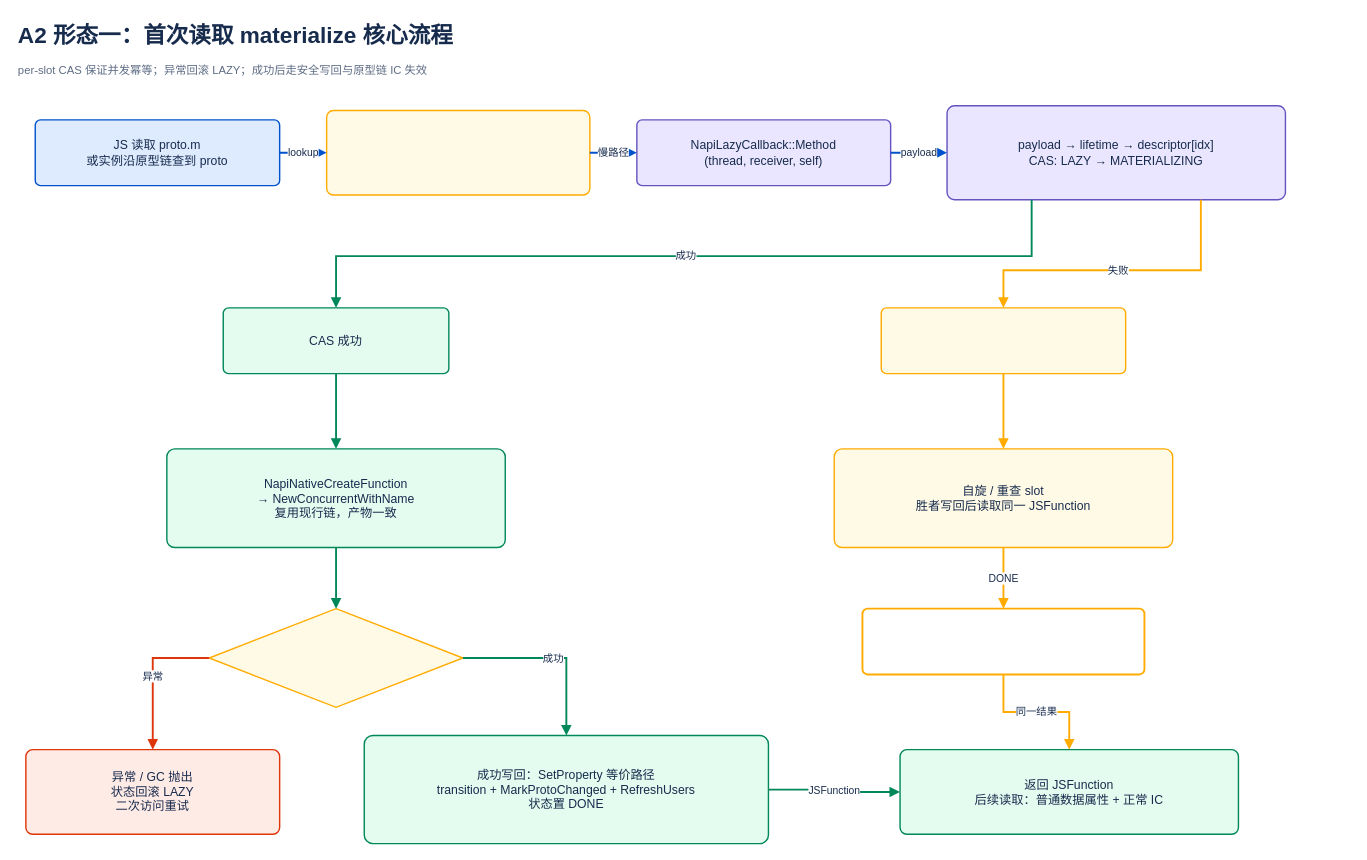
The diagram is 1367 pixels wide and 860 high, and some of its shapes have lost their labels. The box of each missing label's shape, as (x1, y1, x2, y2) in pixels:
CAS 失败（并发）: (880, 307, 1126, 374)
property lookup slot=accessor + IsInternal IC 缓存行为待核验 V2: (326, 109, 590, 195)
函数创建成功？: (208, 608, 463, 708)
读取胜者写回结果 获得同一 JSFunction: (861, 607, 1145, 675)
